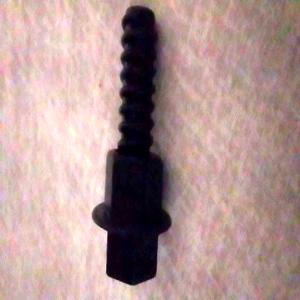parafuso: (93, 7, 172, 285)
